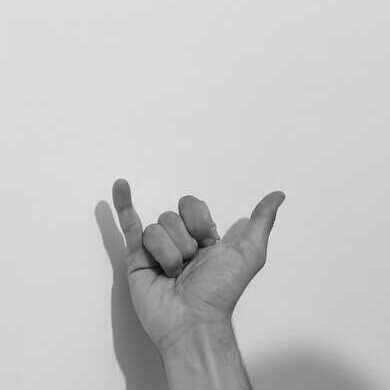Y: (112, 179, 286, 355)
